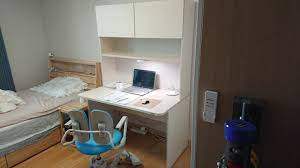Bed: (0, 52, 104, 168)
Chair: (58, 104, 132, 168)
